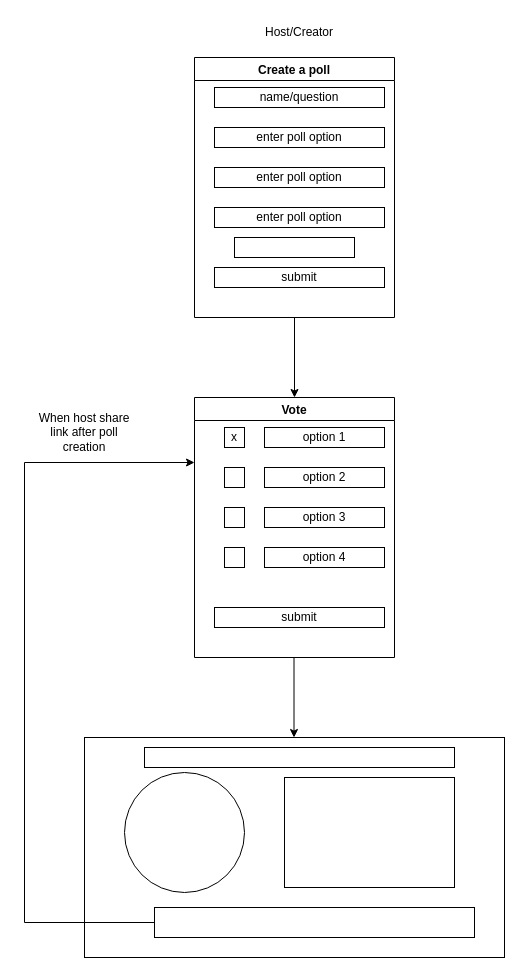
This 522x975 diagram has some shape labels left out. The shapes that lost their labels are listed below. From the top down, each one's centre as x and y in pixels, then its label:
At point (294, 247): "duplicates on click".
At point (299, 757): "Question here".
At point (184, 832): "pie chart".
At point (369, 832): "legend here".
At point (314, 922): "Shareable link".
